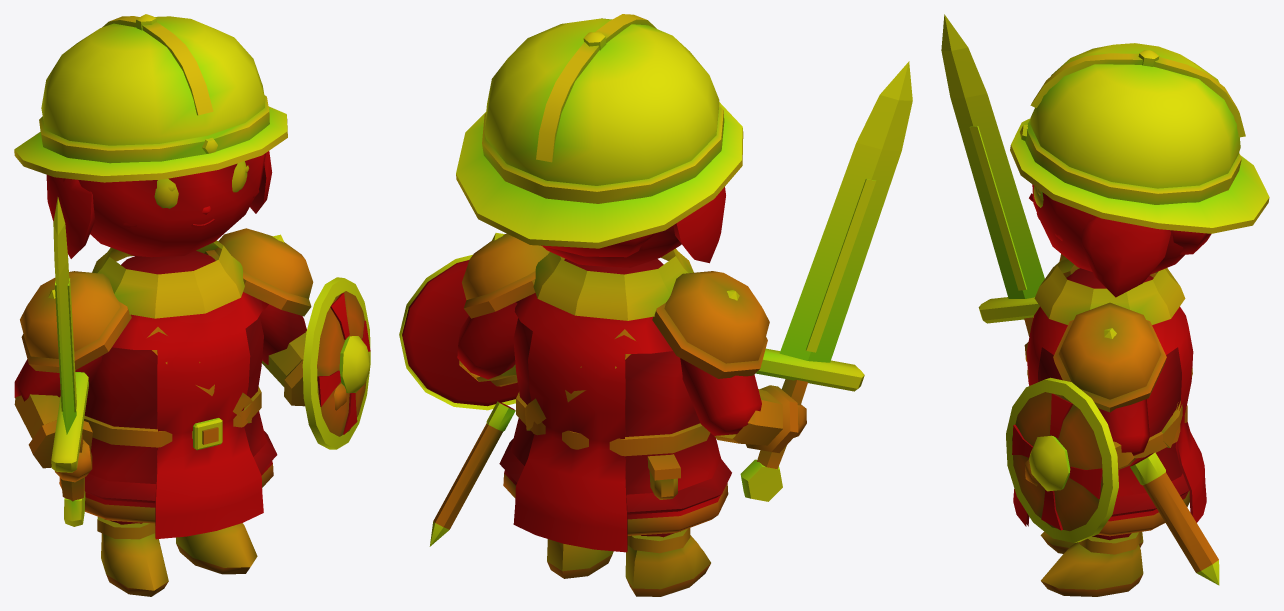
File: Soldier.glb
The picture shows the model from 3 angles, left to right: view 1: azimuth 30°, elevation 25°; view 2: azimuth 150°, elevation 25°; view 3: azimuth 270°, elevation 25°; orthographic projection. The views are drawn at different scales.
Parts seen in each view (by area): view 1: Soldier; view 2: Soldier; view 3: Soldier.
Boxes of the visible parts, x1=… form: Soldier: x1=14, y1=14, x2=370, y2=596; Soldier: x1=399, y1=14, x2=912, y2=596; Soldier: x1=941, y1=14, x2=1269, y2=596.
Size of the model in its own units: 0.6897 by 0.8758 by 0.5044.
